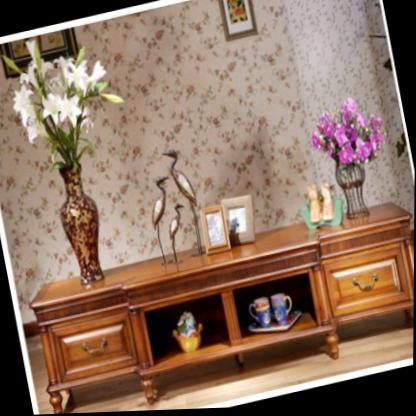TV stand: (25, 197, 415, 415)
